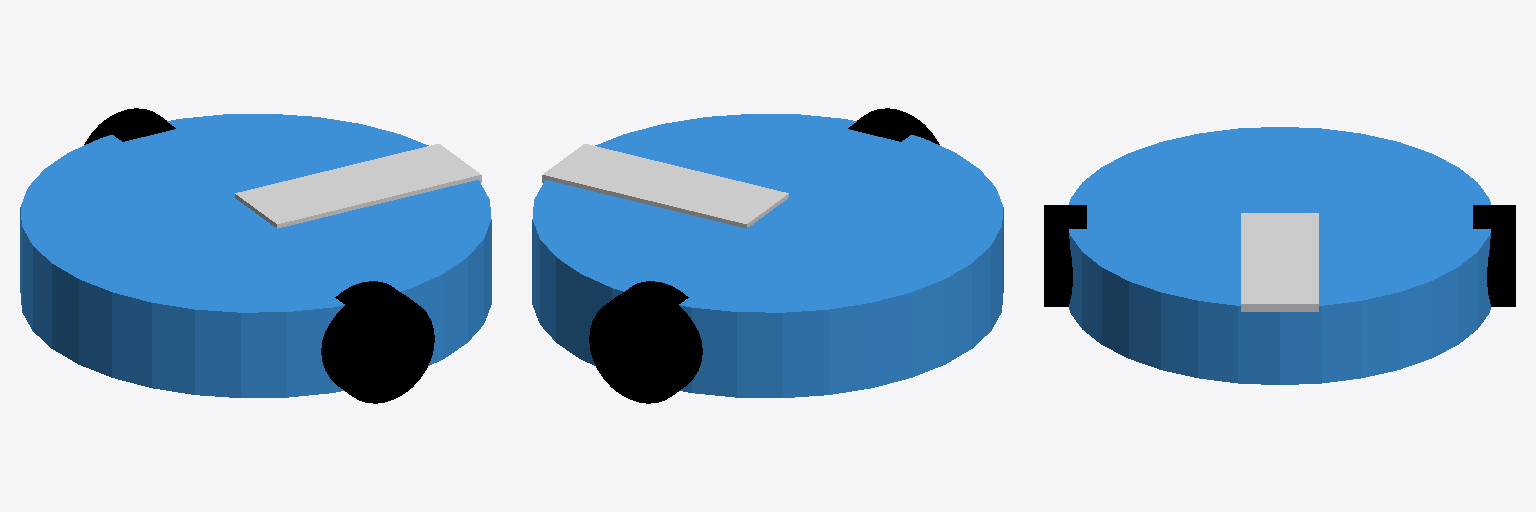
robot.urdf — simple_robot:
<?xml version="1.0"?>
<robot name="simple_robot">

  <link name="base_link">
    <visual name="base">
      <geometry>
        <cylinder length="0.1" radius="0.25"/>
      </geometry>
      <origin rpy="0 0 0" xyz="0 0 0.06"/>
      <material name="blue">
        <color rgba="0.27 0.64 0.95 1"/>
      </material>
    </visual>

    <!-- Right wheel -->
    <visual name="right_wheel">
      <geometry>
        <cylinder length="0.05" radius="0.06"/>
      </geometry>
      <origin rpy="1.57075 0 0" xyz="0 0.25 0.06"/>
      <material name="black">
        <color rgba="0.0 0.0 0.0 1"/>
      </material>
    </visual>

    <!-- Left wheel -->
    <visual>
      <geometry>
        <cylinder length="0.05" radius="0.06"/>
      </geometry>
      <origin rpy="1.57075 0 0" xyz="0 -0.25 0.06"/>
      <material name="black">
        <color rgba="0.0 0.0 0.0 1"/>
      </material>
    </visual>

    <!-- Stripe -->
    <visual>
      <geometry>
        <box size="0.25 0.09 0.01"/>
      </geometry>
      <origin rpy="0 0 0" xyz="0.125 0 0.11"/>
      <material name="white">
              <color rgba="0.9 0.9 0.9 1"/>
      </material>
    </visual>
  </link>

</robot>

--- Render facts (derived) ---
3 views of the same robot in one strip: view 1: azimuth 30°, elevation 25°; view 2: azimuth 150°, elevation 25°; view 3: azimuth 270°, elevation 25° (orthographic).
Robot: simple_robot — 1 links, 0 joints (none); root link base_link; default pose: every joint at zero.
Visible links, largest first — view 1: base_link; view 2: base_link; view 3: base_link.
Link boxes in pixels (left/top/right/bottom): base_link: left=20, top=108, right=491, bottom=403; base_link: left=532, top=108, right=1003, bottom=403; base_link: left=1044, top=127, right=1515, bottom=384.
Bounding box of the posed robot: 0.5 × 0.55 × 0.12 m (x, y, z).
Geometry: primitives only (box / cylinder / sphere), no mesh files.